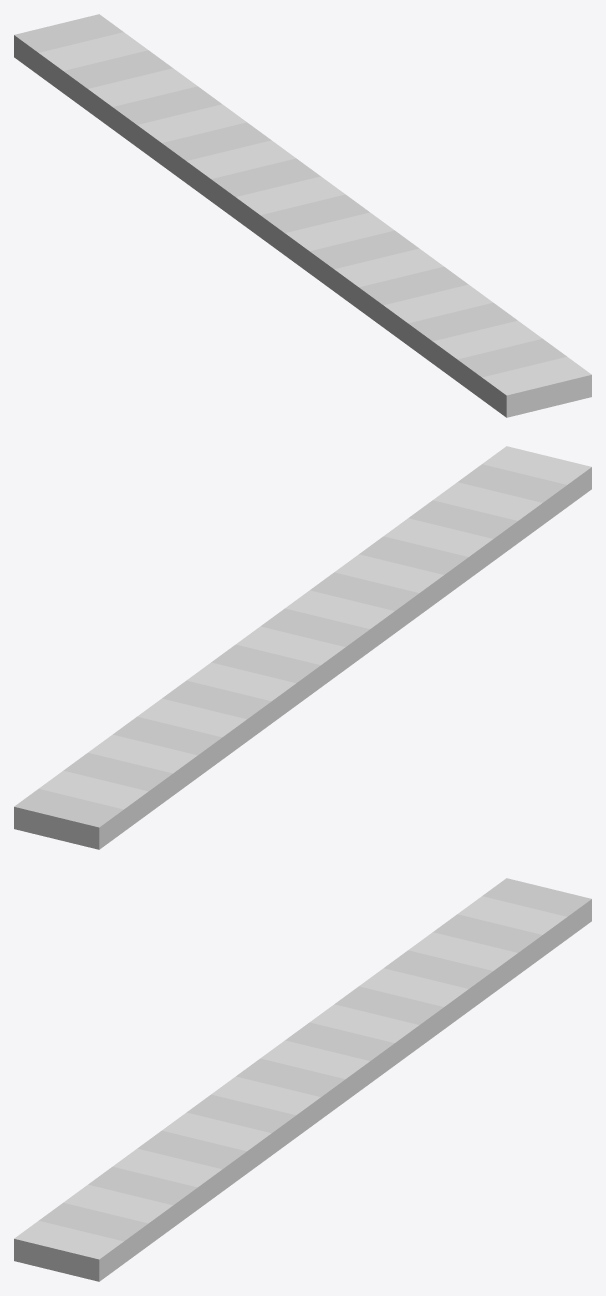
Rendered from road_02.fbx.
3 renders of one model, top to bottom at view 1: azimuth 30°, elevation 25°; view 2: azimuth 150°, elevation 25°; view 3: azimuth 330°, elevation 25°, orthographic.
Parts seen in each view (by area): view 1: road_02; view 2: road_02; view 3: road_02.
Boxes of the visible parts, x1,y1,x2,y2 form: road_02: [14, 14, 591, 417]; road_02: [14, 446, 591, 849]; road_02: [14, 878, 591, 1281].
Size of the model in its own units: 10.21 by 2.55 by 102.
